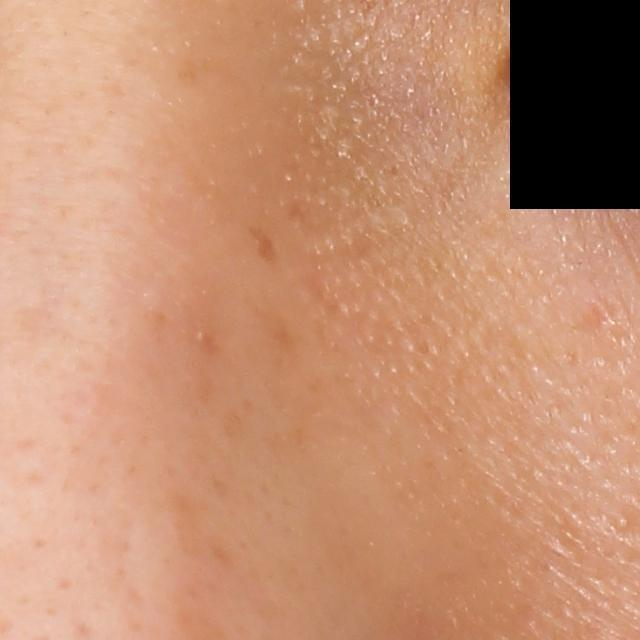comedo: (608, 505, 639, 535)
melasma: (241, 227, 281, 265)
